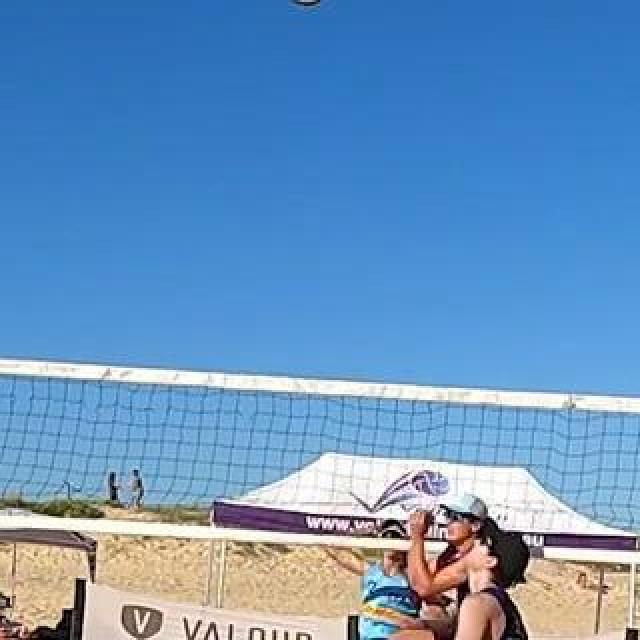volleyball: (290, 0, 326, 8)
